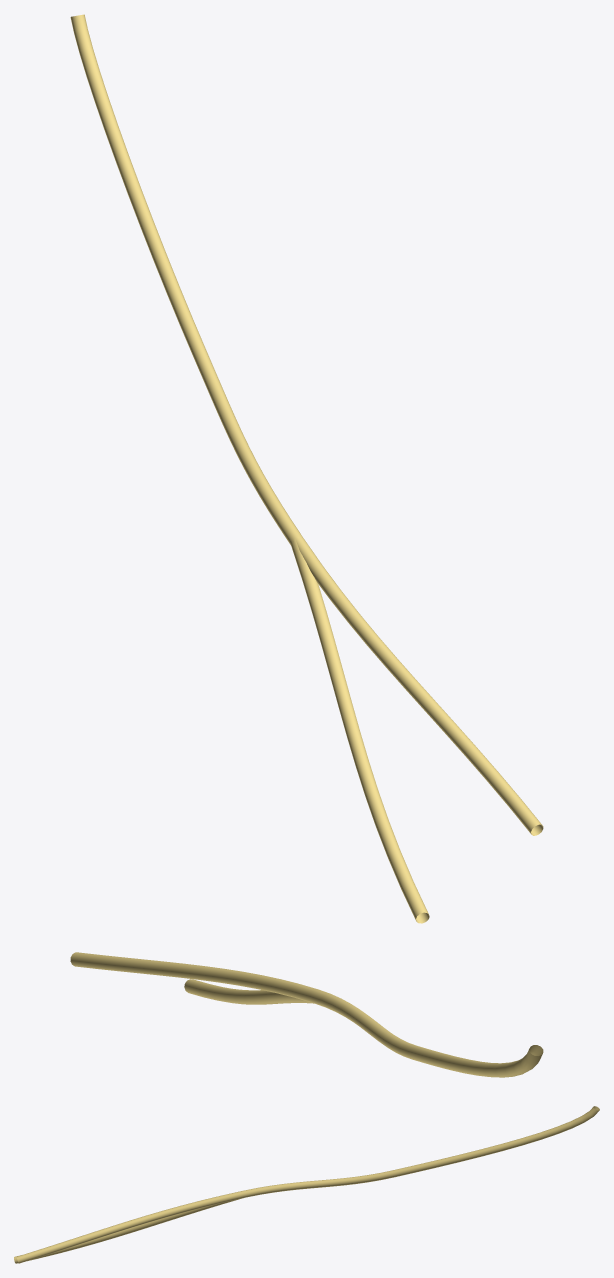
The picture shows the model from 3 angles, top to bottom: view 1: azimuth 30°, elevation 25°; view 2: azimuth 210°, elevation 25°; view 3: azimuth 270°, elevation 25°; orthographic projection. The views are drawn at different scales.
Parts seen in each view (by area): view 1: ZA_5bf177d0b85b7ae7; view 2: ZA_5bf177d0b85b7ae7; view 3: ZA_5bf177d0b85b7ae7.
Part boxes in pixels (<box>): ZA_5bf177d0b85b7ae7: <box>70,14,543,923</box>; ZA_5bf177d0b85b7ae7: <box>70,952,543,1077</box>; ZA_5bf177d0b85b7ae7: <box>14,1106,599,1263</box>.
Bounding box in the file's own units: 0.0196 × 0.0323 × 0.08.
